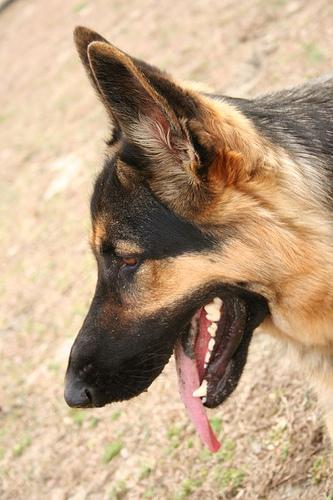German_shepherd: (61, 20, 331, 455)
